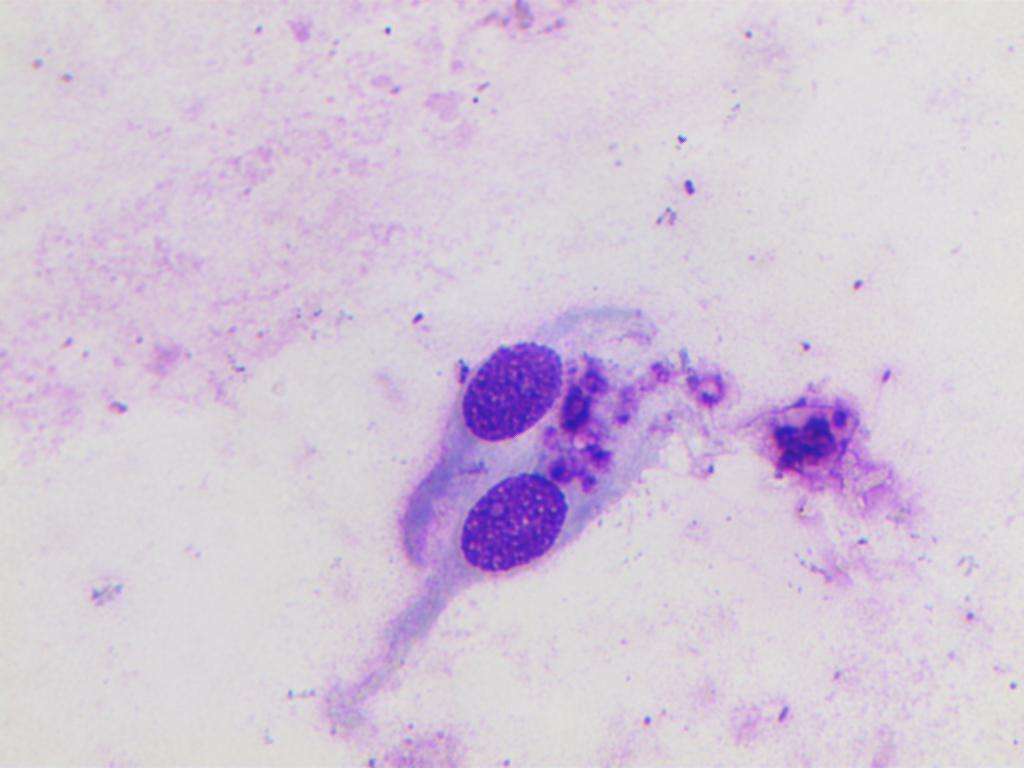artifact: (675, 316, 922, 552)
epithelial: (413, 455, 633, 587), (403, 322, 618, 450)
